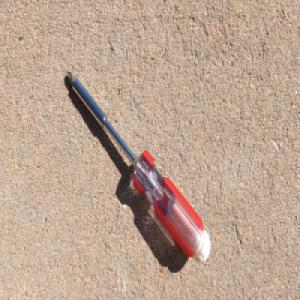Screwdriver: (68, 70, 213, 266)
